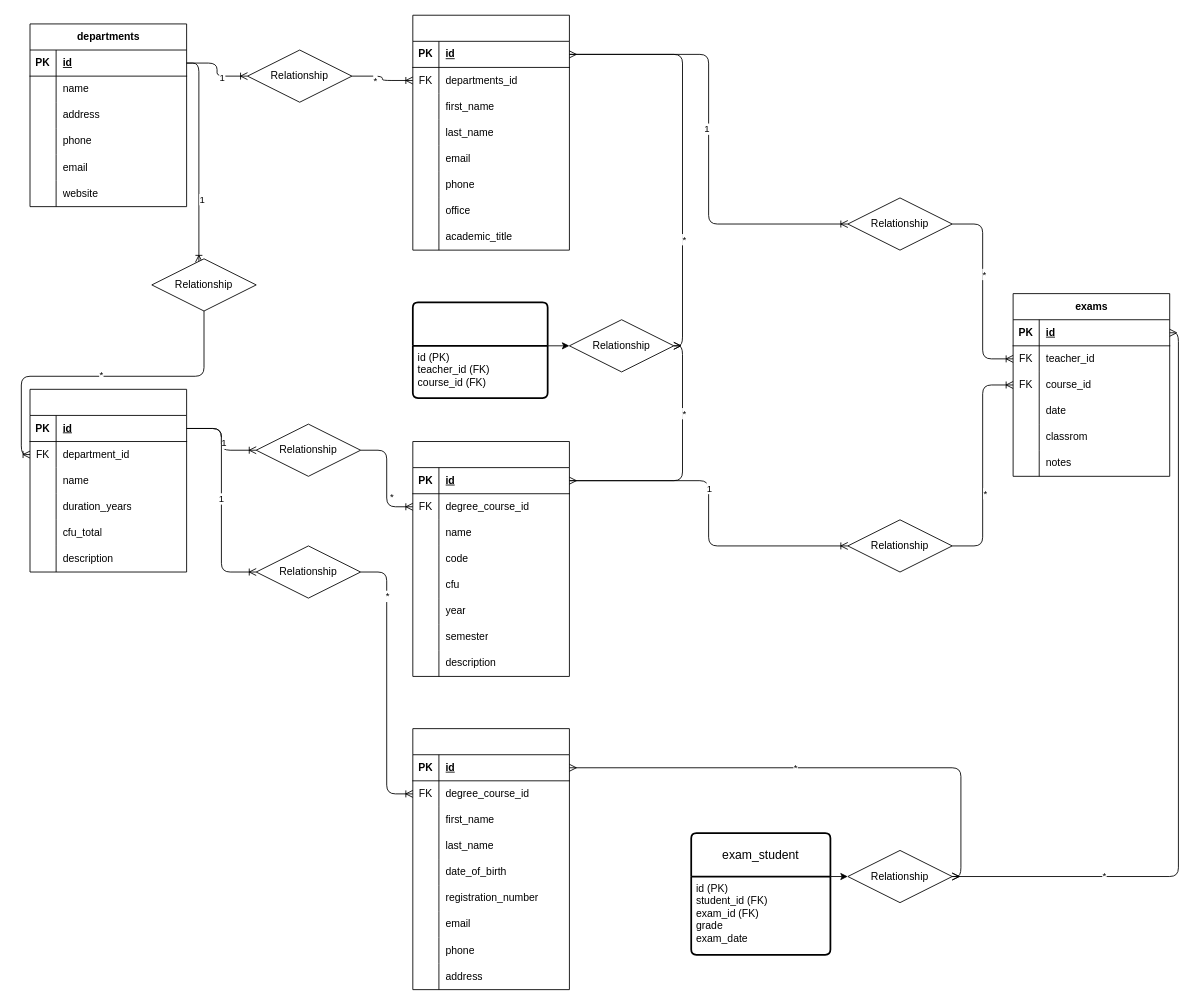
Image size: 1201x1005. Some labels were removed from this diagram. The box of each missing label's shape, as (x1, y1, x2, y2) in pixels:
course_teacher: (412, 301, 548, 398)
courses: (412, 441, 569, 676)
degree_courses: (29, 388, 187, 572)
students: (412, 728, 569, 990)
teachers: (412, 14, 569, 250)
